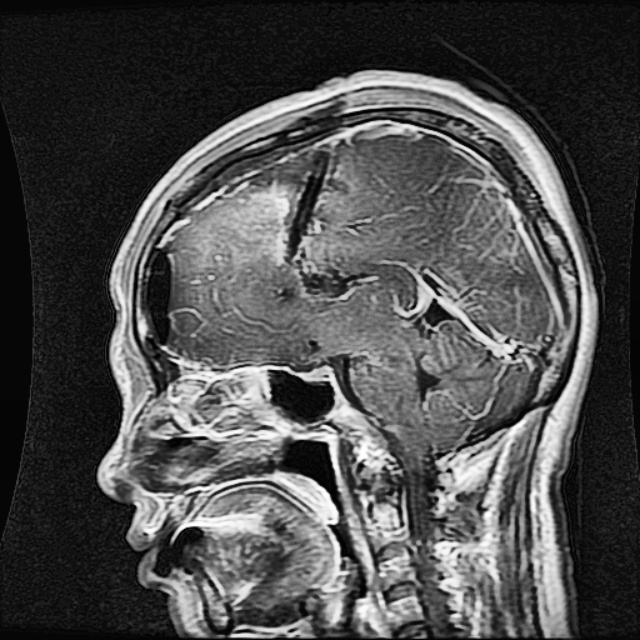Meningioma: (243, 153, 330, 263)
